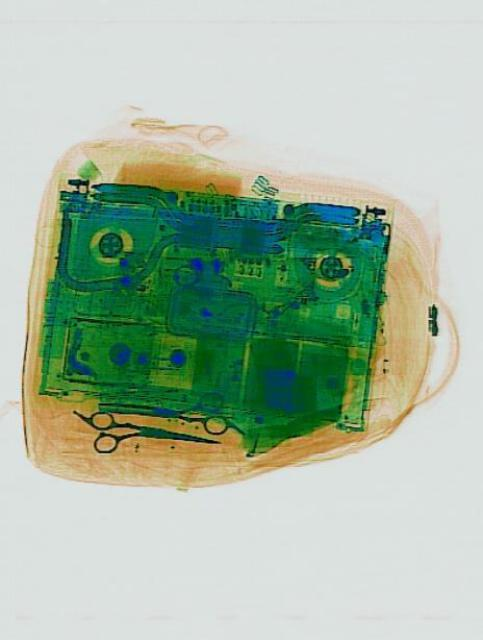Scissors: (82, 408, 221, 464), (92, 382, 229, 434)
